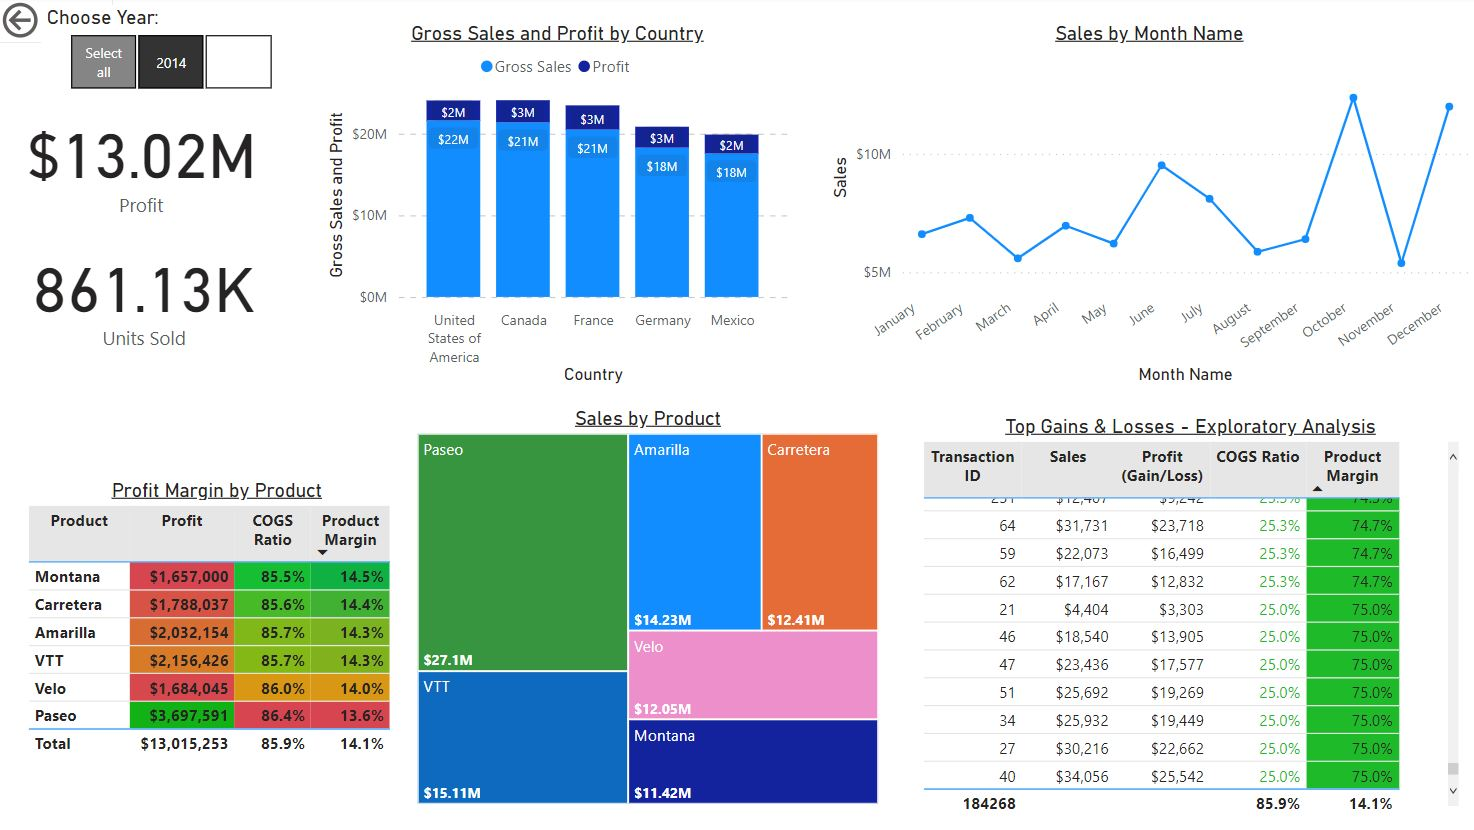

Layout of this report page (visuals, bound fields, positions):
{"tool":"powerbi","page":{"name":"Main Dashboard","canvas":[1280,720],"ordinal":0},"visuals":[{"type":"columnChart","fields":{"Category":["financials.Country"],"Y":["Sum(financials.Gross Sales)","Sum(financials.Profit)"]},"box":[279.3,20.4,407.9,318.3],"z":0},{"type":"card","fields":{"Values":["Sum(financials.Units Sold)"]},"box":[10.6,202.2,233.2,108.2],"z":2000},{"type":"actionButton","box":[0,0,100,40],"z":3000},{"type":"treemap","fields":{"Group":["financials.Product"],"Values":["Sum(financials. Sales)"]},"box":[375.1,352.9,407,348.5],"z":4000},{"type":"card","fields":{"Values":["Sum(financials.Profit)"]},"box":[10.6,86,227.9,109.1],"z":5000},{"type":"slicer","title":"Choose Year:","fields":{"Values":["financials.Date.Variation.Date Hierarchy.Year"]},"box":[38.1,7.1,222.6,78.9],"z":6000},{"type":"tableEx","title":"Profit Margin by Product","fields":{"Values":["financials.Product","Sum(financials.Profit)","financials.COGS Ratio","financials.Product Profit Margin"]},"box":[21.3,415,336.1,269.6],"z":7000},{"type":"tableEx","title":"Top Gains & Losses - Exploratory Analysis","fields":{"Values":["Sum(financials.Index)","financials. Sales","financials.Profit","financials.COGS Ratio","financials.Product Margin"]},"box":[814,360,450.4,352],"z":8000},{"type":"lineChart","fields":{"Category":["financials.Month Name"],"Y":["Sum(financials. Sales)"]},"box":[713.8,20.4,559.5,318.3],"z":8001}]}

Visuals, with their boxes in screenshot pixels (x1, y1, x2, y2), scaled from the page's 1280x720 canvas onto the 1474x830 screenshot:
columnChart - financials.Country x Sum(financials.Gross Sales): (x1=322, y1=24, x2=791, y2=390)
card - Sum(financials.Units Sold): (x1=12, y1=233, x2=281, y2=358)
actionButton: (x1=0, y1=0, x2=115, y2=46)
treemap - financials.Product x Sum(financials. Sales): (x1=432, y1=407, x2=901, y2=809)
card - Sum(financials.Profit): (x1=12, y1=99, x2=275, y2=225)
"Choose Year:" slicer: (x1=44, y1=8, x2=300, y2=99)
"Profit Margin by Product" tableEx: (x1=25, y1=478, x2=412, y2=789)
"Top Gains & Losses - Exploratory Analysis" tableEx: (x1=937, y1=415, x2=1456, y2=821)
lineChart - financials.Month Name x Sum(financials. Sales): (x1=822, y1=24, x2=1466, y2=390)
